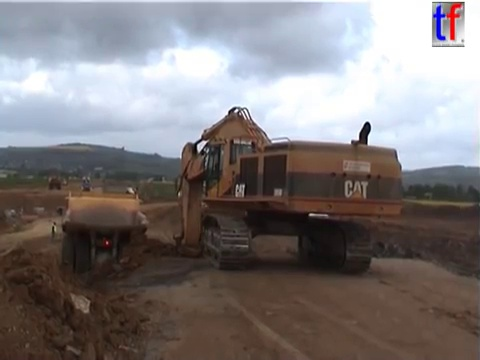excavator: (157, 104, 405, 278)
truck: (54, 189, 151, 275), (103, 184, 136, 198), (47, 176, 62, 191)
worker: (49, 219, 58, 241)
